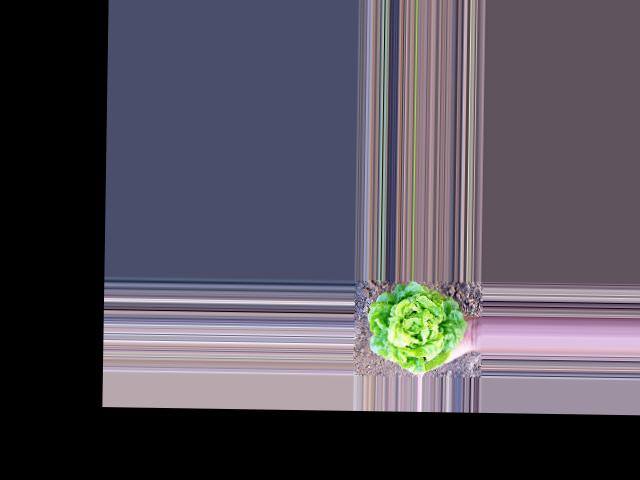lettuce: (365, 283, 460, 372)
